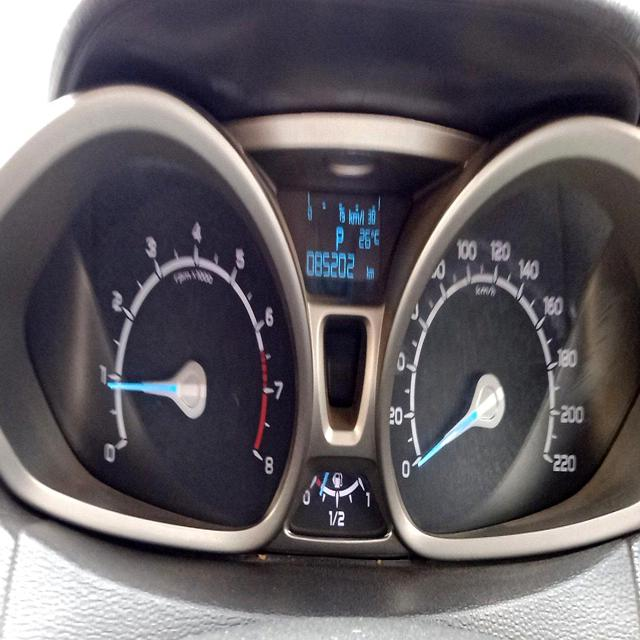odometer: (304, 244, 357, 280)
